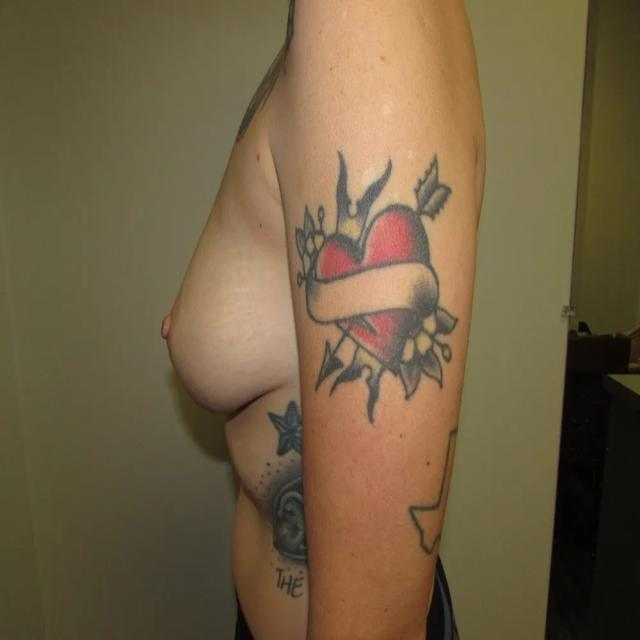Seno ileso: (150, 122, 304, 444)
